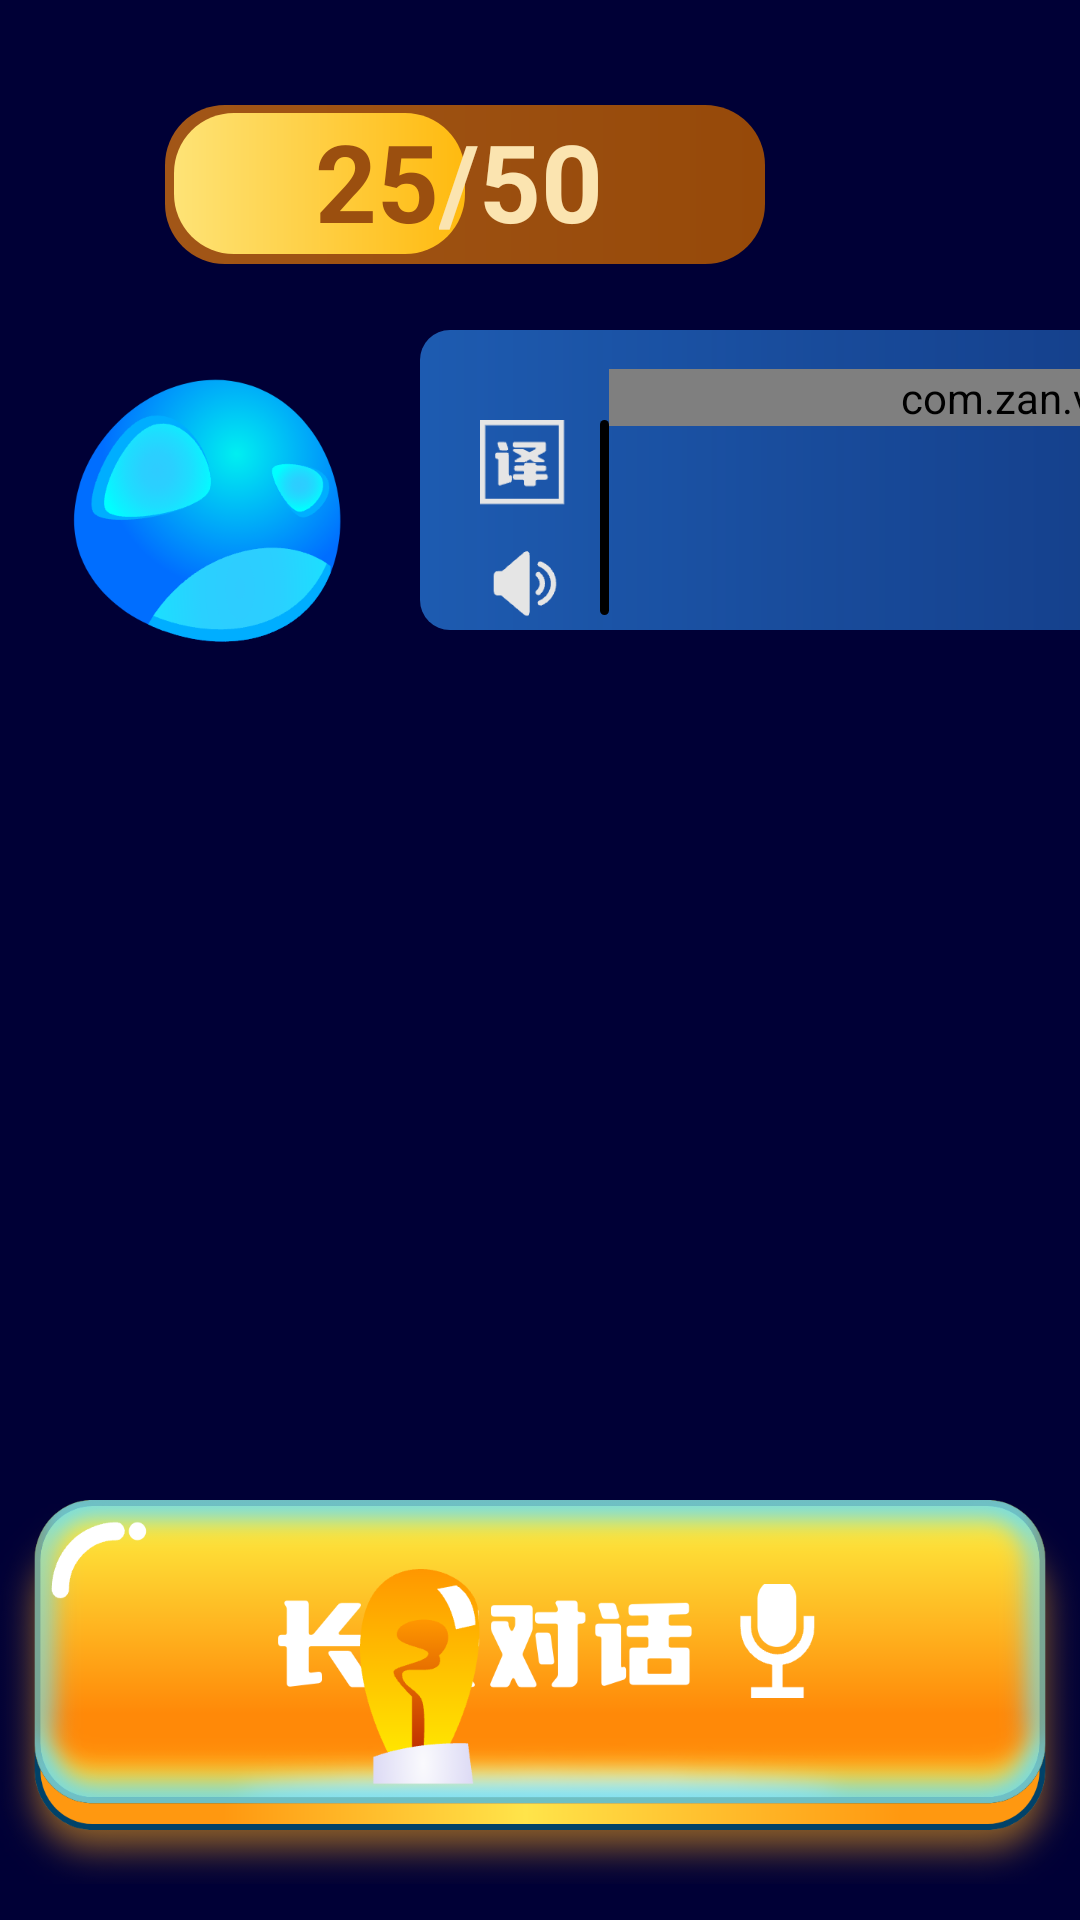

Icons on this 1080w x 1920h Android screen, each with the point to tap as point (x, y):
ai chinese english: point (522, 462)
ai horn: point (525, 583)
